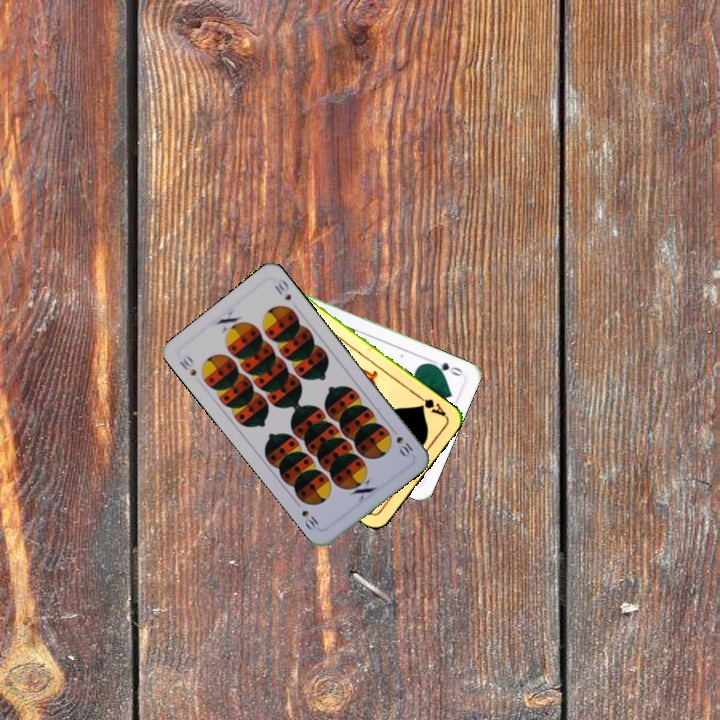GA: (413, 390, 449, 419)
GO: (426, 356, 465, 379)
S10: (392, 432, 416, 460), (175, 351, 199, 379)
